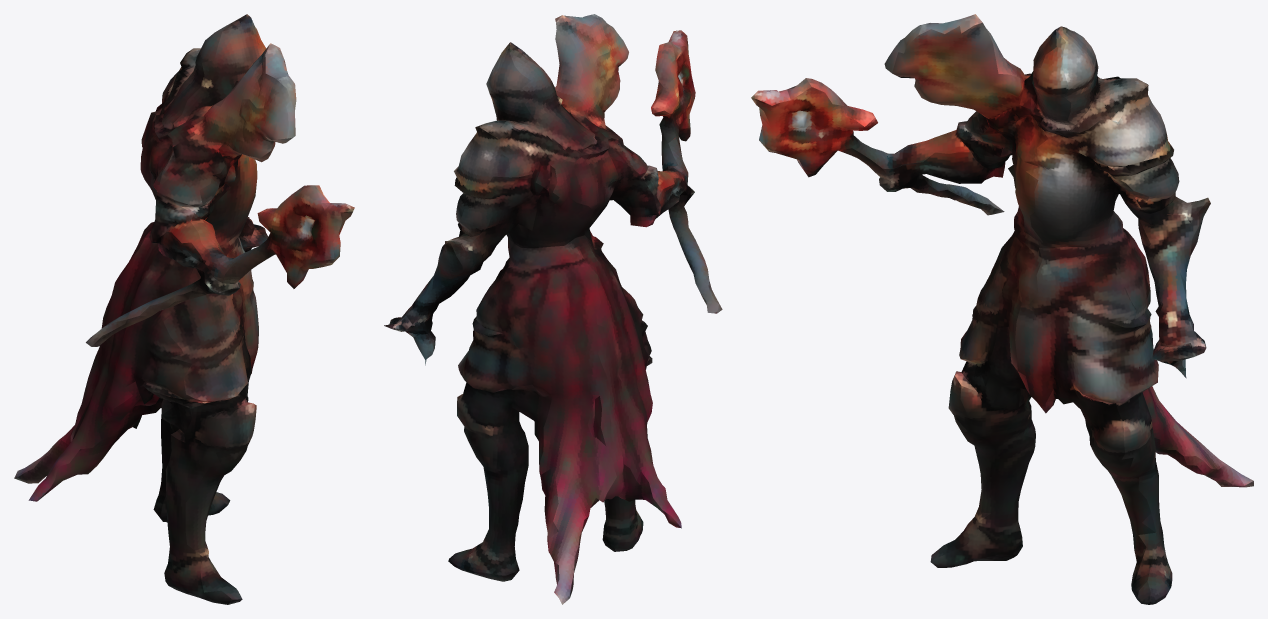
Rendered from emberknight.glb.
3 renders of one model, left to right at view 1: azimuth 30°, elevation 25°; view 2: azimuth 150°, elevation 25°; view 3: azimuth 270°, elevation 25°, orthographic. The views are drawn at different scales.
Parts seen in each view (by area): view 1: emberknight; view 2: emberknight; view 3: emberknight.
Part boxes in pixels (x1=…): emberknight: x1=14, y1=14, x2=354, y2=604; emberknight: x1=384, y1=14, x2=722, y2=604; emberknight: x1=751, y1=14, x2=1253, y2=604.
Size of the model in its own units: 1.22 by 2.3 by 1.8.
1 material, 1 textured.
